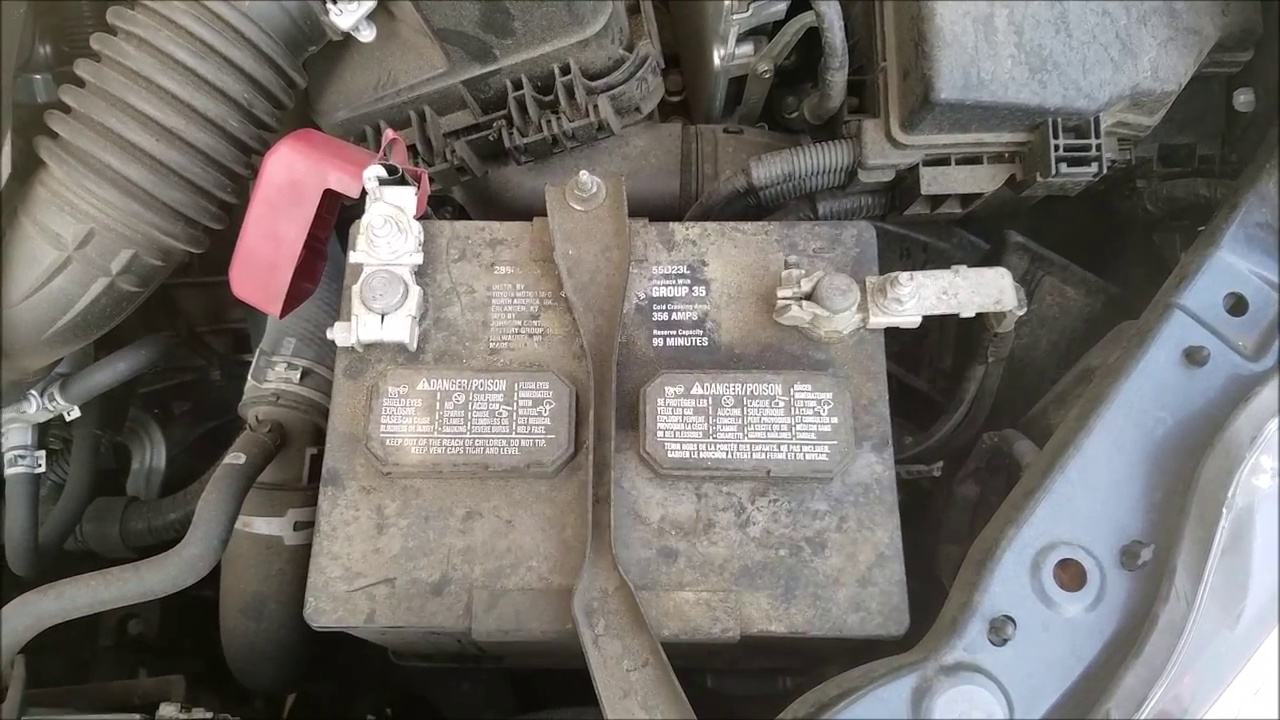battery: (307, 146, 915, 641)
neg_connected: (778, 242, 961, 353)
pos_connected: (229, 143, 455, 370)
